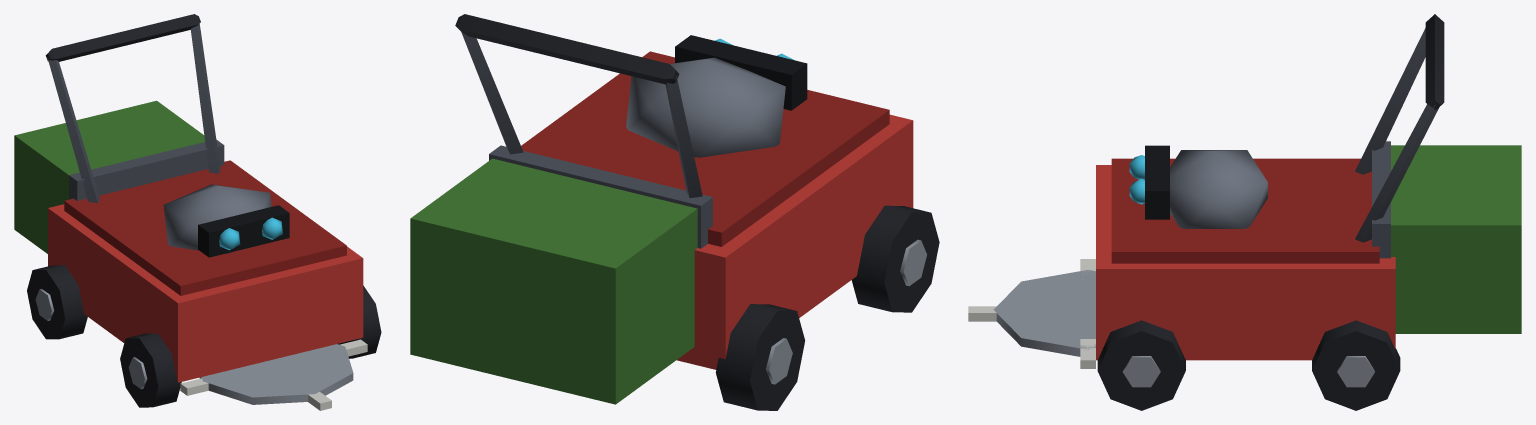
Rendered from e_maschinen_maeher.glb.
3 renders of one model, left to right at view 1: azimuth 30°, elevation 25°; view 2: azimuth 150°, elevation 25°; view 3: azimuth 270°, elevation 25°, orthographic. The views are drawn at different scales.
Parts seen in each view (by area): view 1: body; view 2: body; view 3: body.
Boxes of the visible parts, x1,y1,x2,y2 form: body: (14,14,381,410); body: (410,14,939,410); body: (968,14,1521,410).
Bounding box in the file's own units: 1.25 × 1.34 × 2.28.
